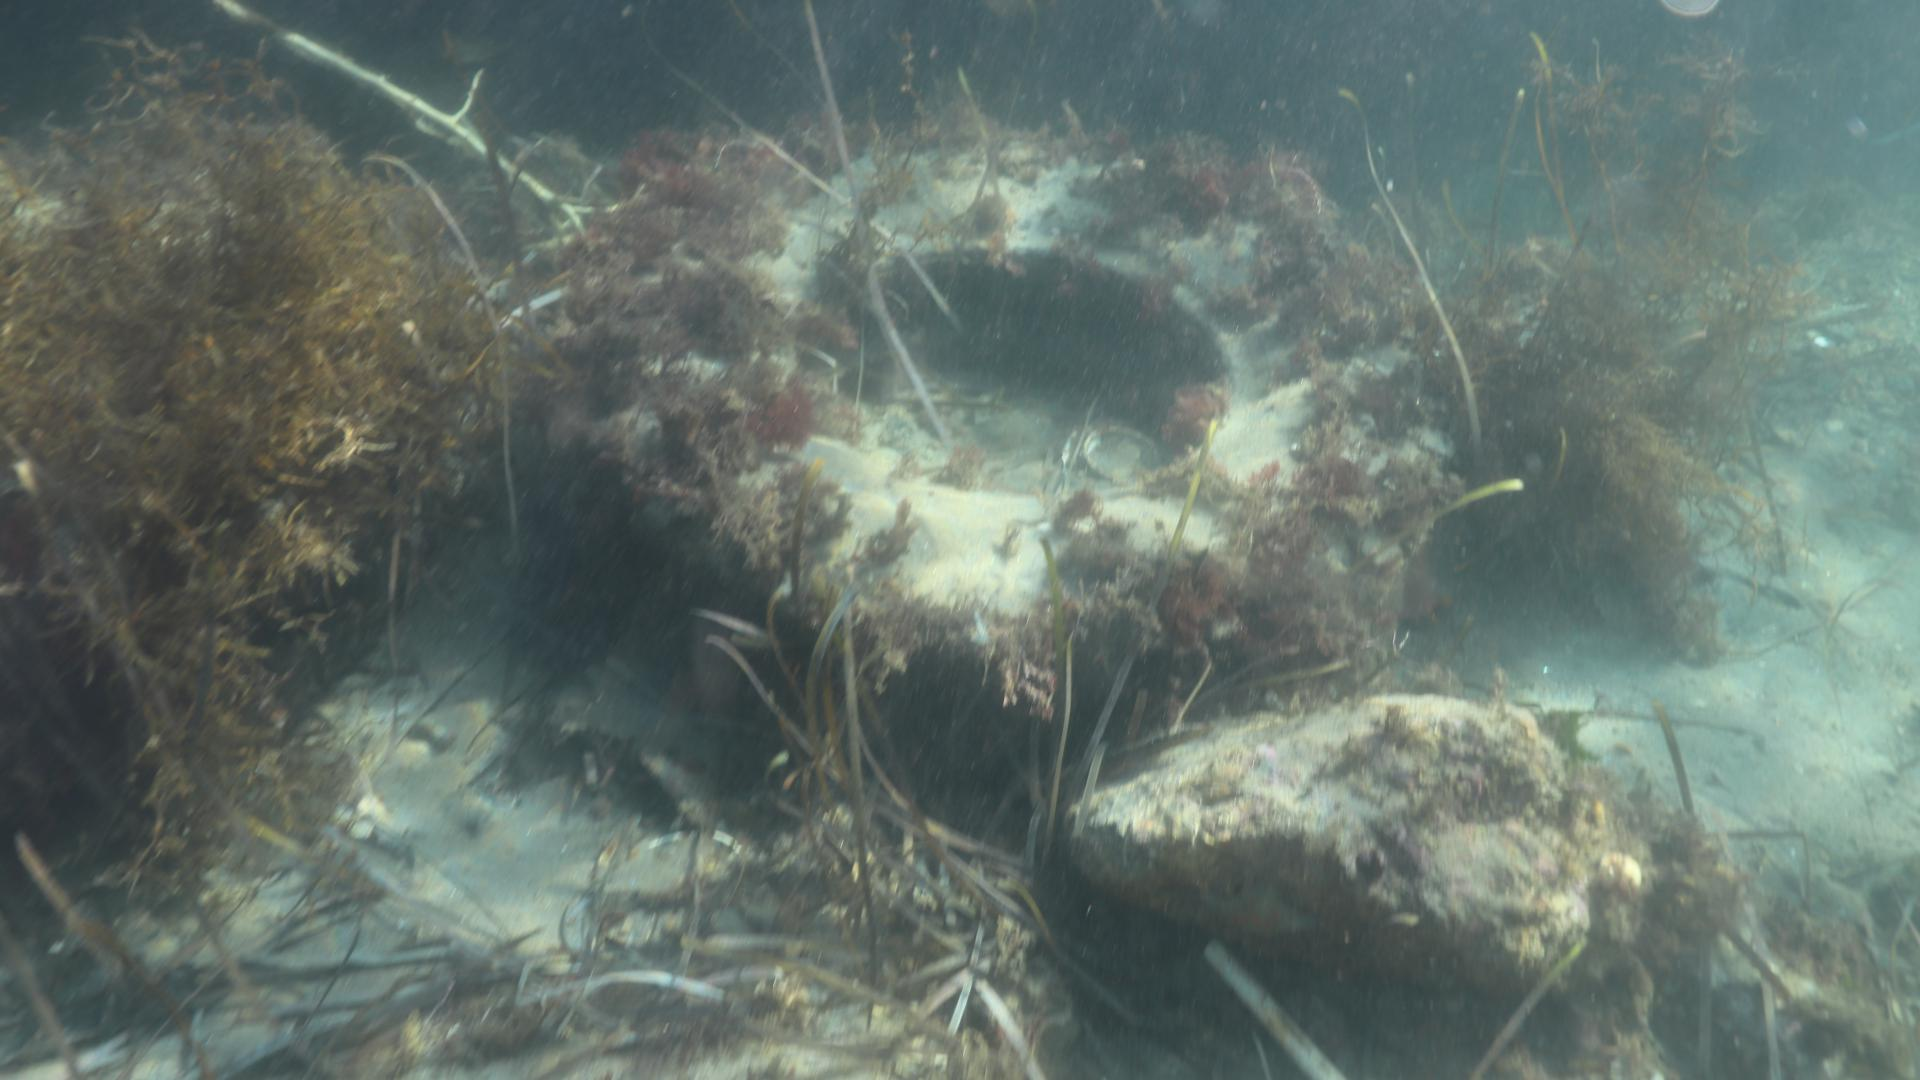tire: (555, 140, 1456, 785)
